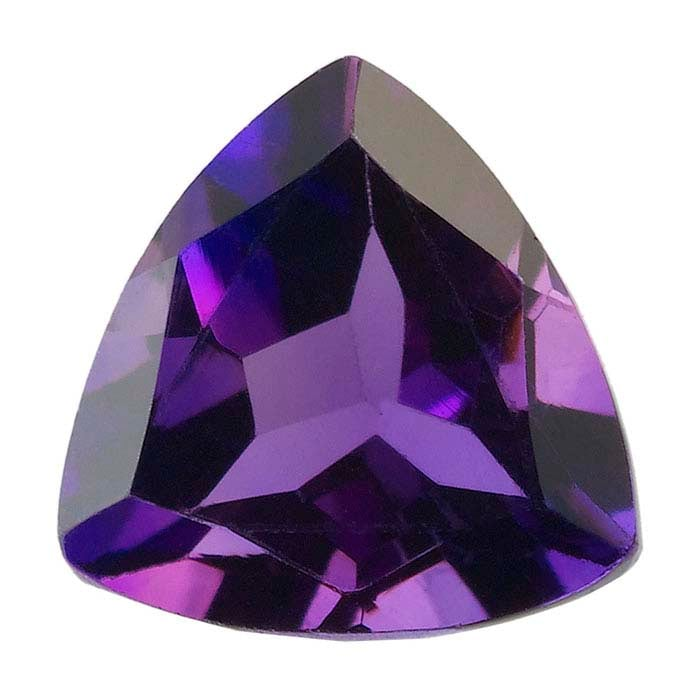Amethyst: (55, 52, 642, 644)
